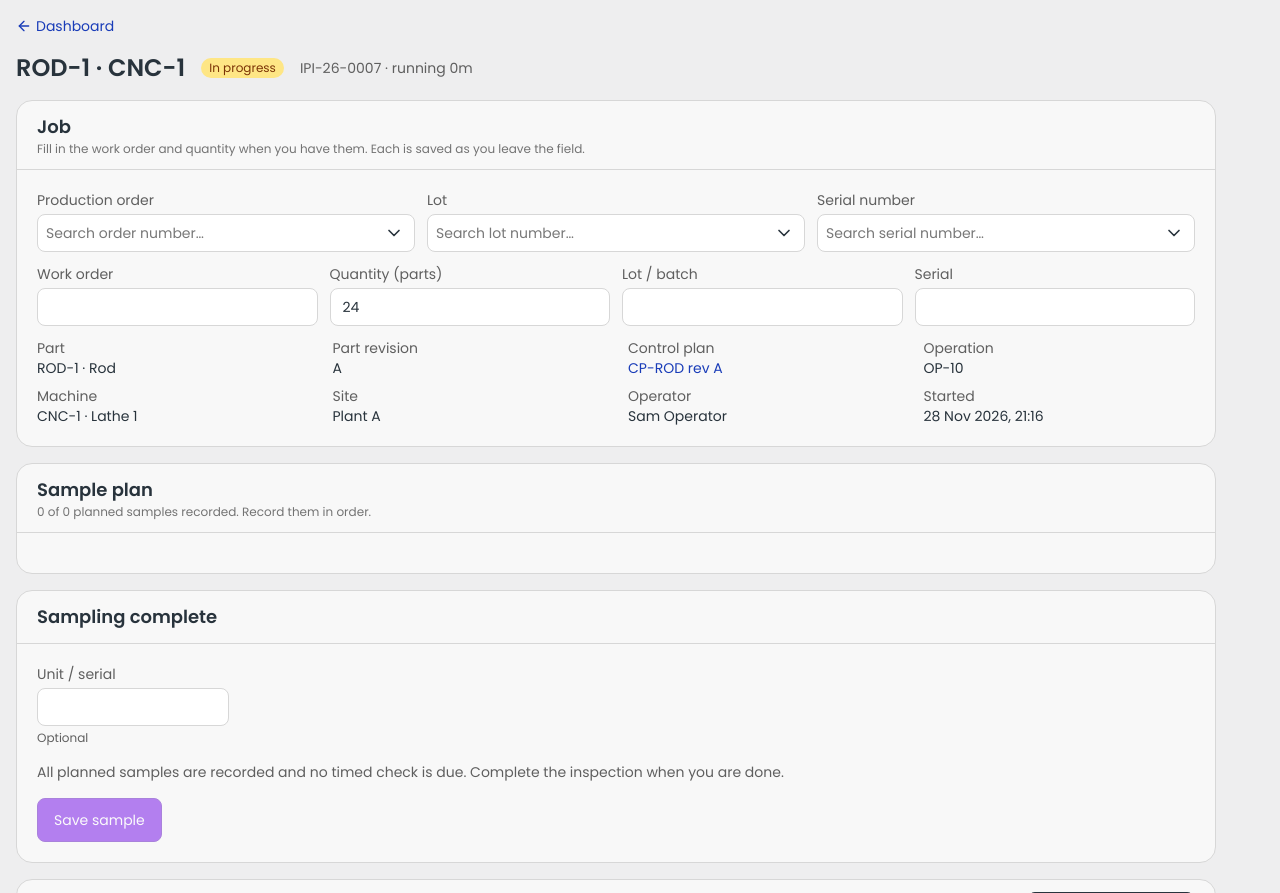
Test: production records on the job hub › offers the order, lot and serial number to people who may read them, and links the job to the order picked
expect the dropdown labelled "Lot" is shown: met, box [436,222,760,244]
expect the dropdown labelled "Serial number" is shown: met, box [826,222,1150,244]
Click the dropdown labelled "Production order" at (208, 233), box [46,222,370,244]
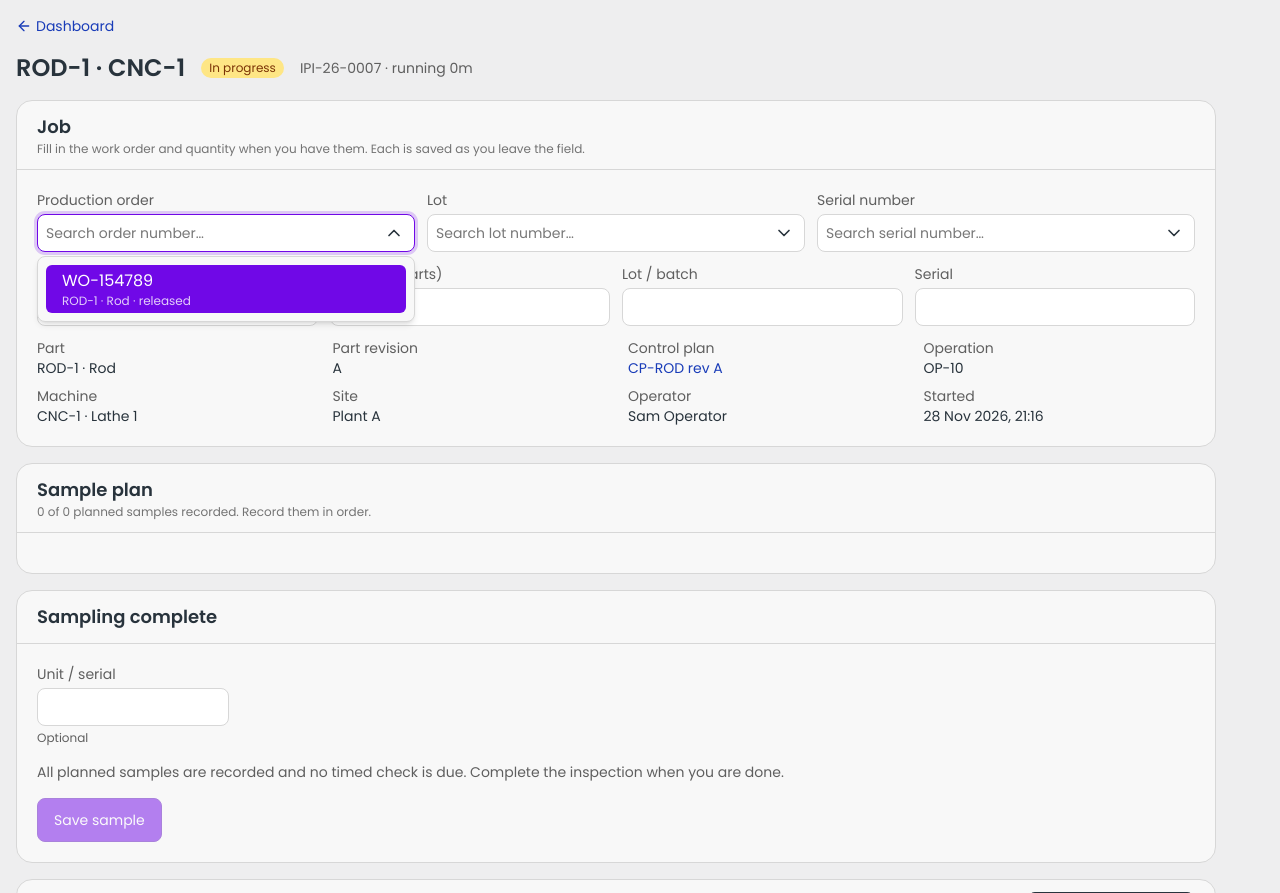
Click the option "WO-154789 ROD-1 · Rod · released" at (226, 289), box [38,261,414,317]
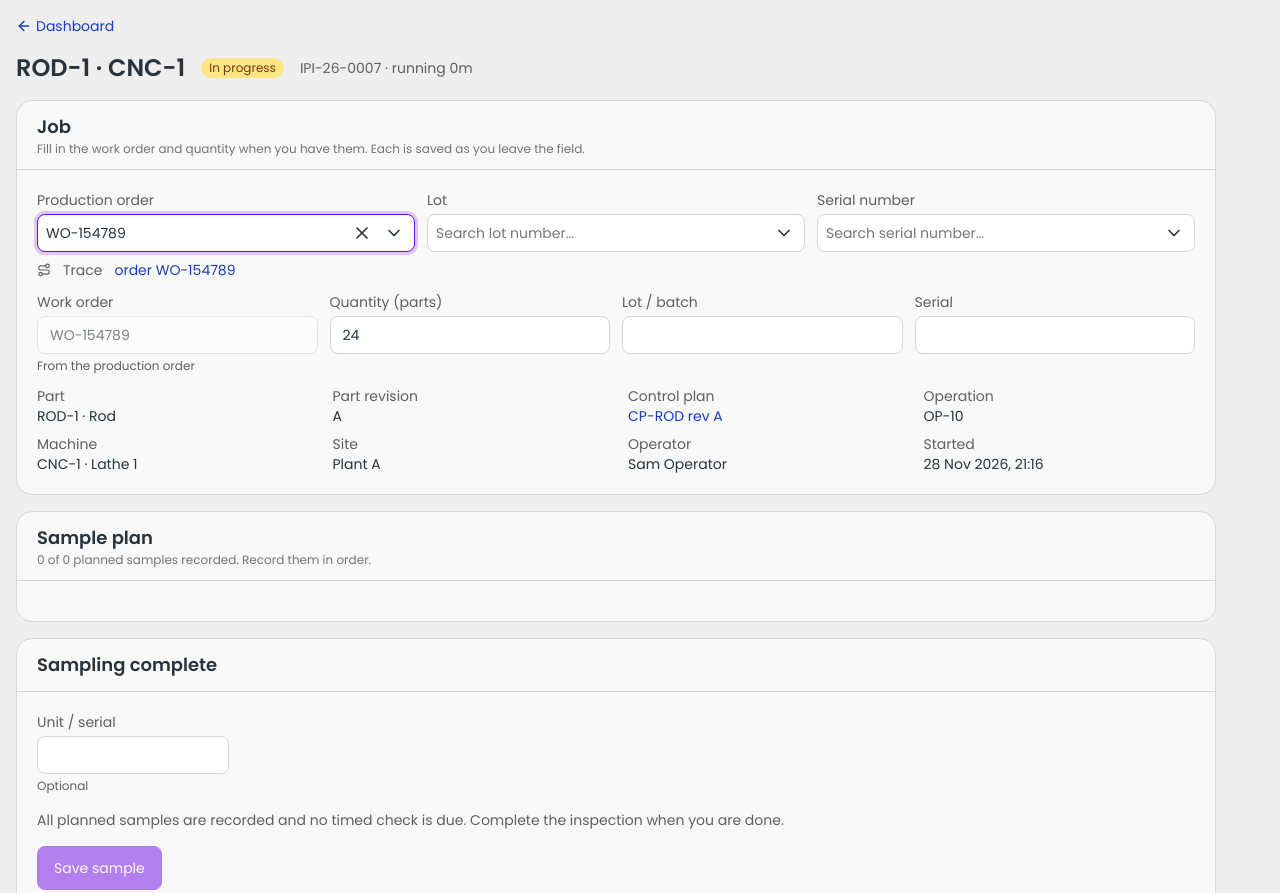
expect the field labelled "Work order" is disabled: met, box [37,316,318,354]
expect the field labelled "Work order" holds "WO-154789": met, box [37,316,318,354]
expect the text "From the production order" is shown: met, box [37,357,195,374]
